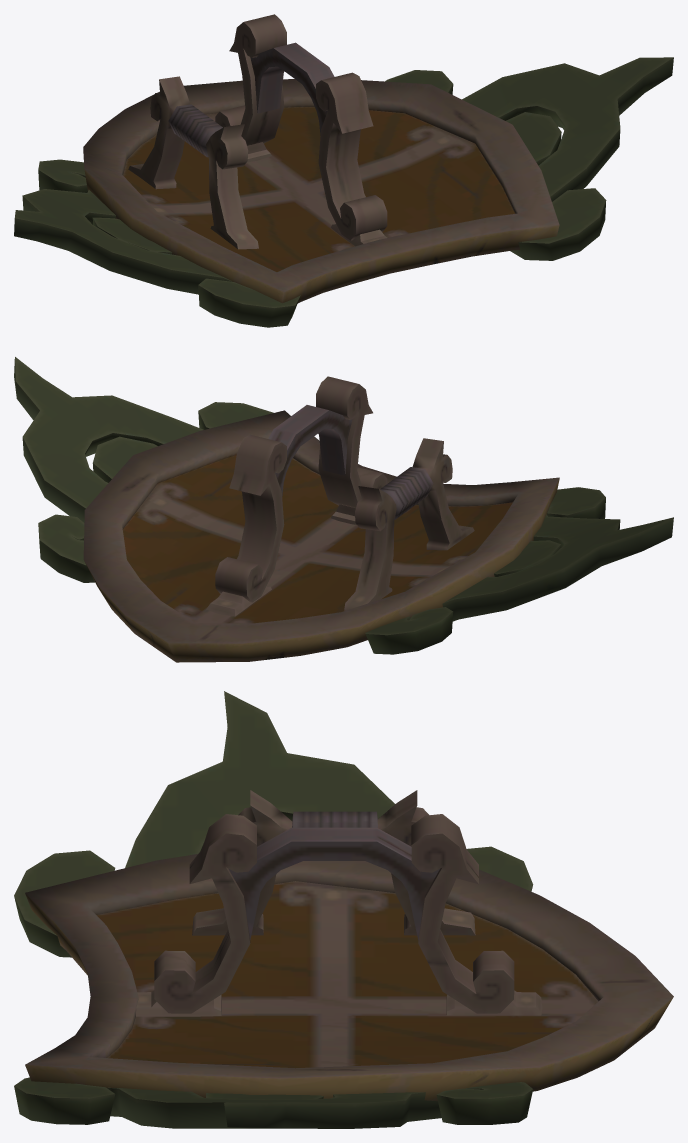
File: Weapon_Shield_023.glb
The picture shows the model from 3 angles, top to bottom: view 1: azimuth 30°, elevation 25°; view 2: azimuth 150°, elevation 25°; view 3: azimuth 270°, elevation 25°; orthographic projection. The views are drawn at different scales.
Parts seen in each view (by area): view 1: Weapon_Shield_023; view 2: Weapon_Shield_023; view 3: Weapon_Shield_023.
Part boxes in pixels (x1=…): Weapon_Shield_023: x1=14, y1=14, x2=673, y2=327; Weapon_Shield_023: x1=14, y1=357, x2=673, y2=662; Weapon_Shield_023: x1=14, y1=691, x2=673, y2=1128.
Bounding box in the file's own units: 0.8066 × 0.1937 × 0.5461.
1 material, 1 textured.
